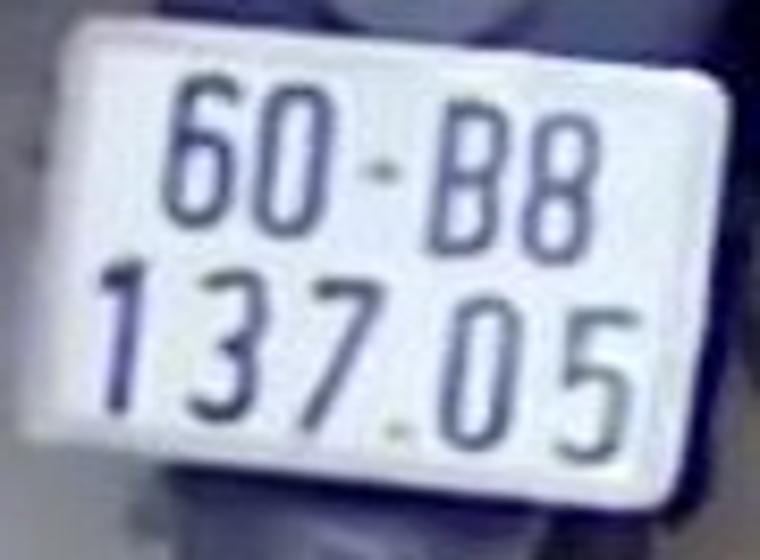-: (361, 162, 394, 180)
.: (383, 420, 401, 437)
0: (442, 295, 513, 453), (258, 80, 324, 236)
1: (101, 256, 138, 418)
3: (190, 266, 267, 426)
5: (560, 305, 630, 465)
6: (160, 67, 229, 231)
7: (310, 275, 373, 441)
8: (523, 112, 596, 263)
B: (433, 98, 501, 256)
